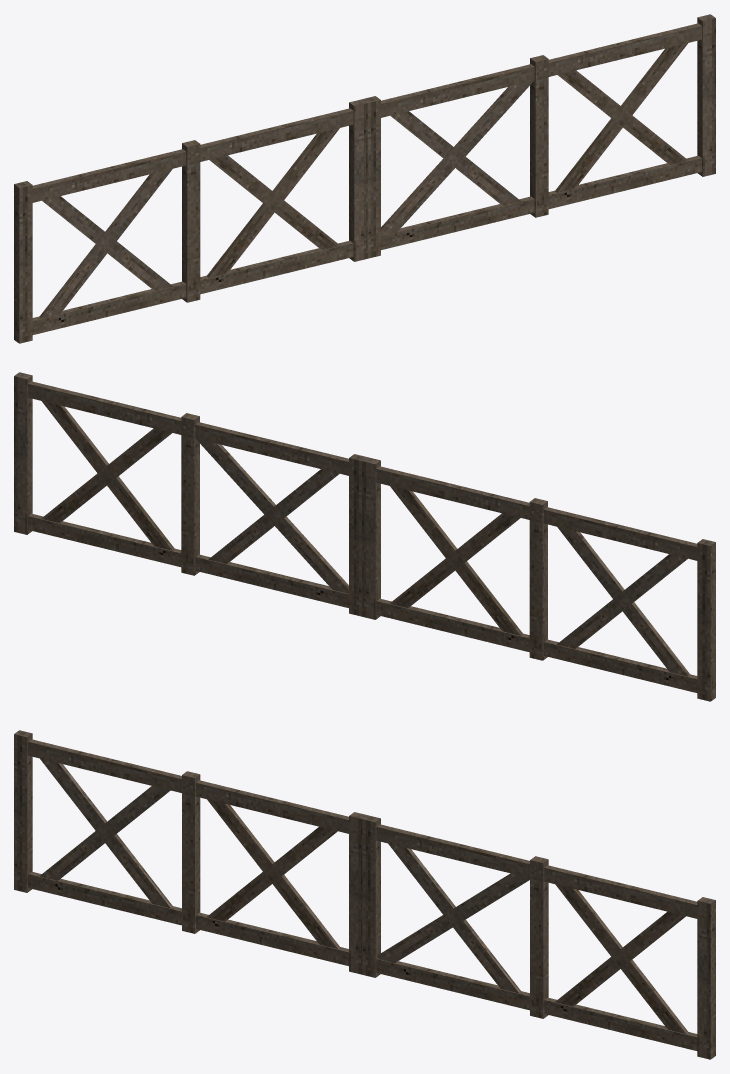
File: GD 3D Fence Wood 4 Sections.fbx
3 renders of one model, top to bottom at view 1: azimuth 30°, elevation 25°; view 2: azimuth 150°, elevation 25°; view 3: azimuth 330°, elevation 25°, orthographic.
Visible parts, largest first — view 1: Wood Fence 1 Long 4 Sections; view 2: Wood Fence 1 Long 4 Sections; view 3: Wood Fence 1 Long 4 Sections.
Boxes of the visible parts, left/top/right/bottom form: Wood Fence 1 Long 4 Sections: left=14, top=14, right=715, bottom=343; Wood Fence 1 Long 4 Sections: left=14, top=372, right=715, bottom=701; Wood Fence 1 Long 4 Sections: left=14, top=730, right=715, bottom=1059.
Bounding box in the file's own units: 399 × 85.3 × 5.34.
